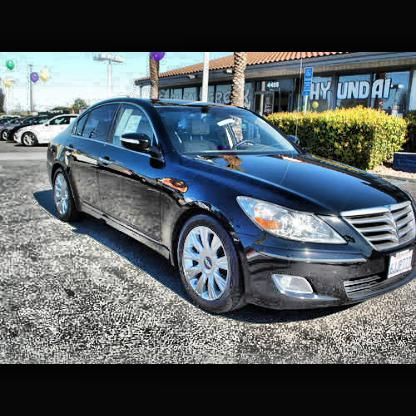Hyundai Genesis Sedan 2012: (46, 101, 416, 319)
